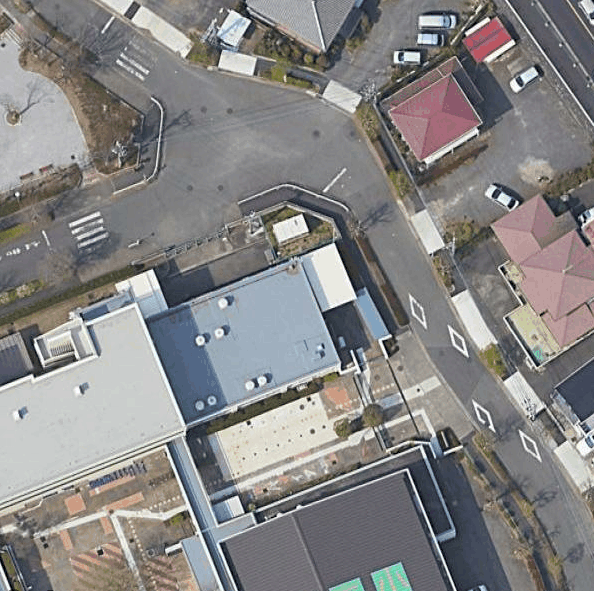flatroof: (0, 301, 173, 507)
